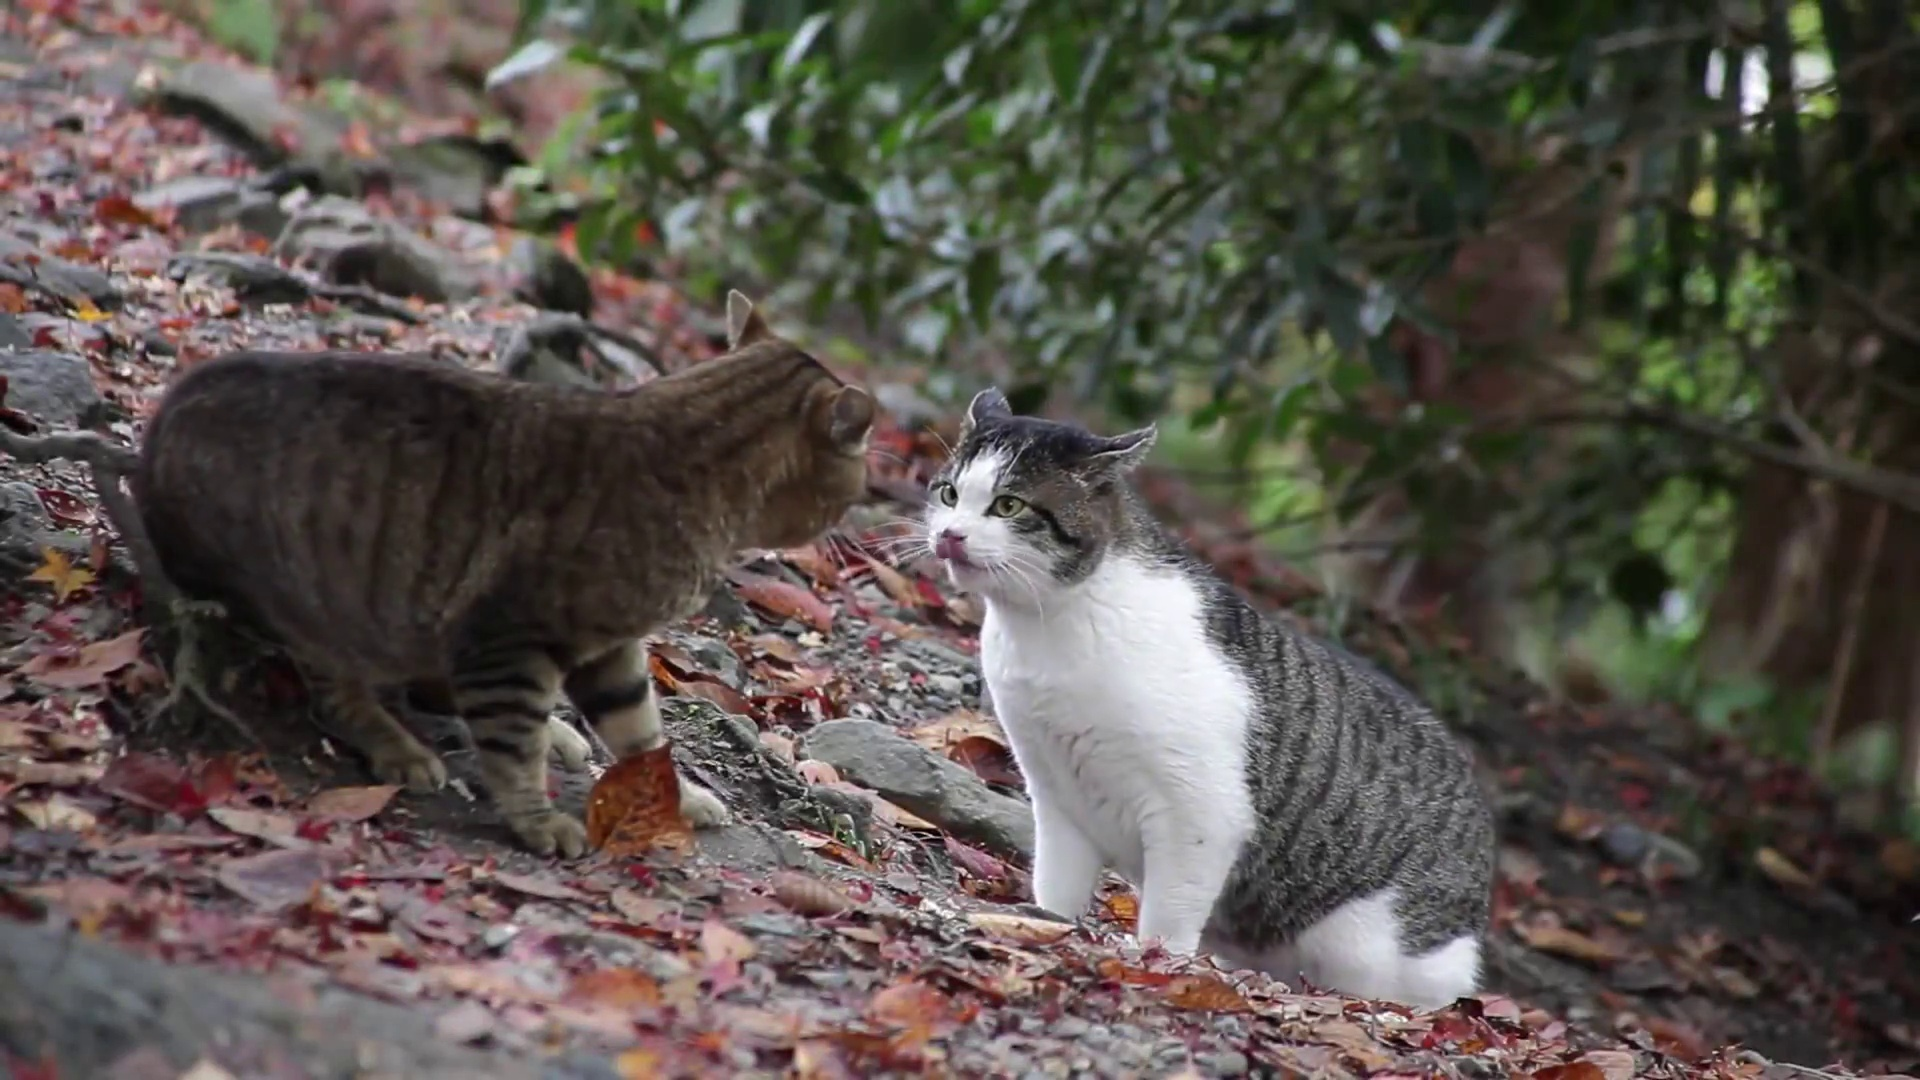black-white: (922, 386, 1495, 1007)
pure black: (142, 287, 876, 862)
